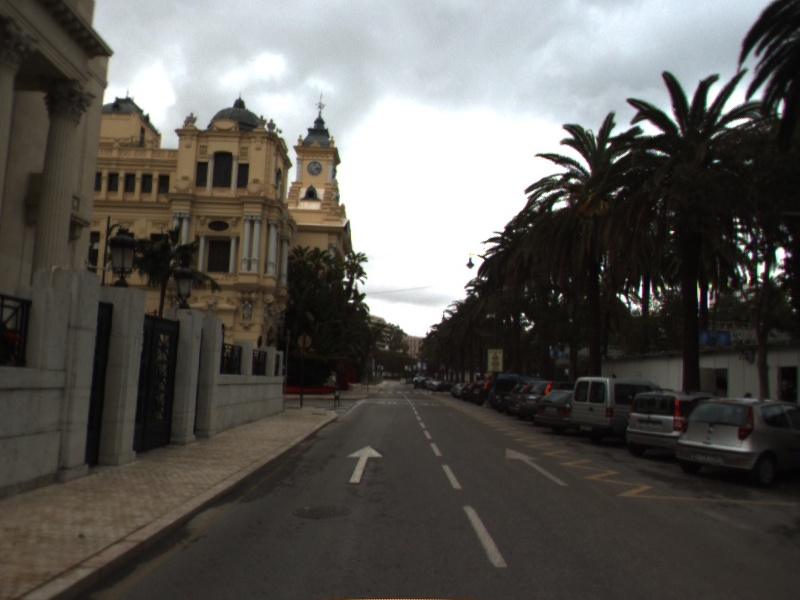STRAIGHT: (503, 445, 571, 488), (344, 443, 386, 485)
